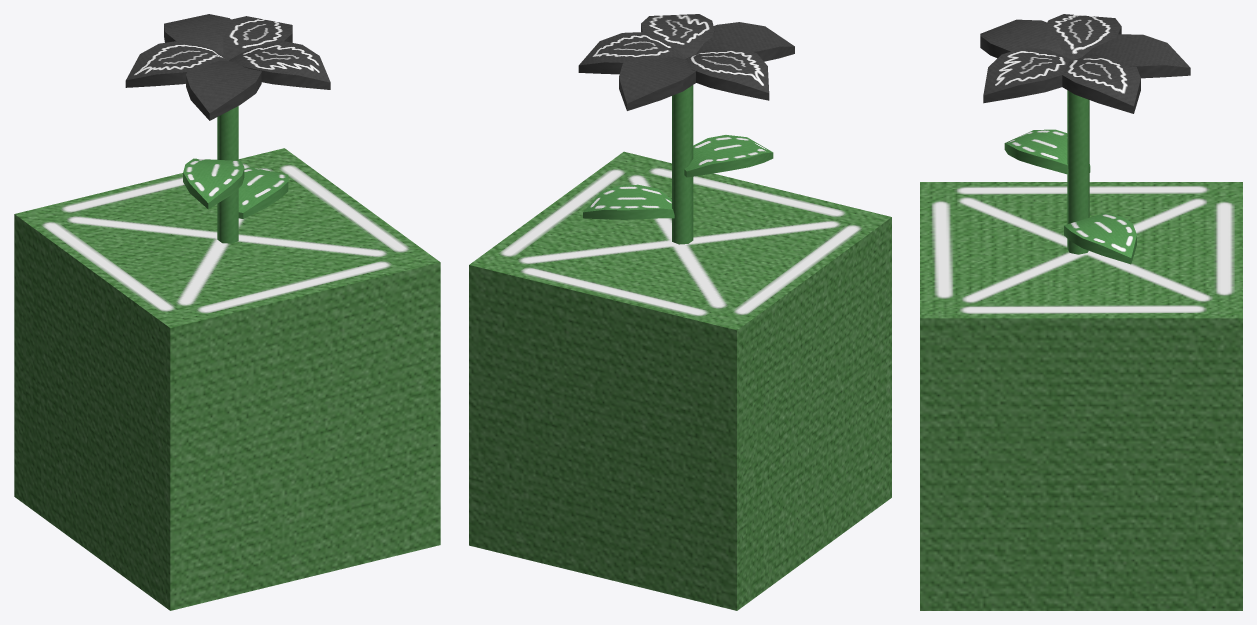
The model's file is duży_kwiatek.fbx.
3 renders of one model, left to right at view 1: azimuth 30°, elevation 25°; view 2: azimuth 150°, elevation 25°; view 3: azimuth 270°, elevation 25°, orthographic. The views are drawn at different scales.
Parts seen in each view (by area): view 1: Box001, Box006, Box009, Box005, Box011, Cylinder001, Box007, Box010, Box008; view 2: Box001, Cylinder001, Box005, Box008, Box010, Box011, Box007, Box009, Box006; view 3: Box001, Box006, Box007, Cylinder001, Box008, Box010, Box005, Box009, Box011.
Part boxes in pixels (bbox=[...]): Box001: bbox=[14, 148, 440, 610]; Box006: bbox=[229, 40, 330, 89]; Box009: bbox=[186, 60, 261, 120]; Box005: bbox=[125, 40, 229, 87]; Box011: bbox=[183, 158, 244, 209]; Cylinder001: bbox=[217, 106, 238, 243]; Box007: bbox=[222, 16, 292, 59]; Box010: bbox=[238, 167, 288, 218]; Box008: bbox=[164, 14, 239, 55]; Box001: bbox=[469, 151, 891, 610]; Cylinder001: bbox=[672, 85, 693, 244]; Box005: bbox=[685, 47, 769, 100]; Box008: bbox=[619, 55, 695, 110]; Box010: bbox=[583, 184, 674, 219]; Box011: bbox=[684, 135, 773, 177]; Box007: bbox=[578, 32, 686, 74]; Box009: bbox=[696, 22, 794, 61]; Box006: bbox=[641, 14, 714, 57]; Box001: bbox=[920, 182, 1242, 610]; Box006: bbox=[983, 48, 1071, 103]; Box007: bbox=[1062, 54, 1140, 113]; Cylinder001: bbox=[1067, 90, 1089, 254]; Box008: bbox=[1082, 34, 1190, 78]; Box010: bbox=[1064, 213, 1136, 264]; Box005: bbox=[1044, 14, 1121, 60]; Box009: bbox=[980, 19, 1063, 58]; Box011: bbox=[1004, 129, 1090, 174].
Size of the model in its own units: 25.4 by 42.67 by 25.4.
